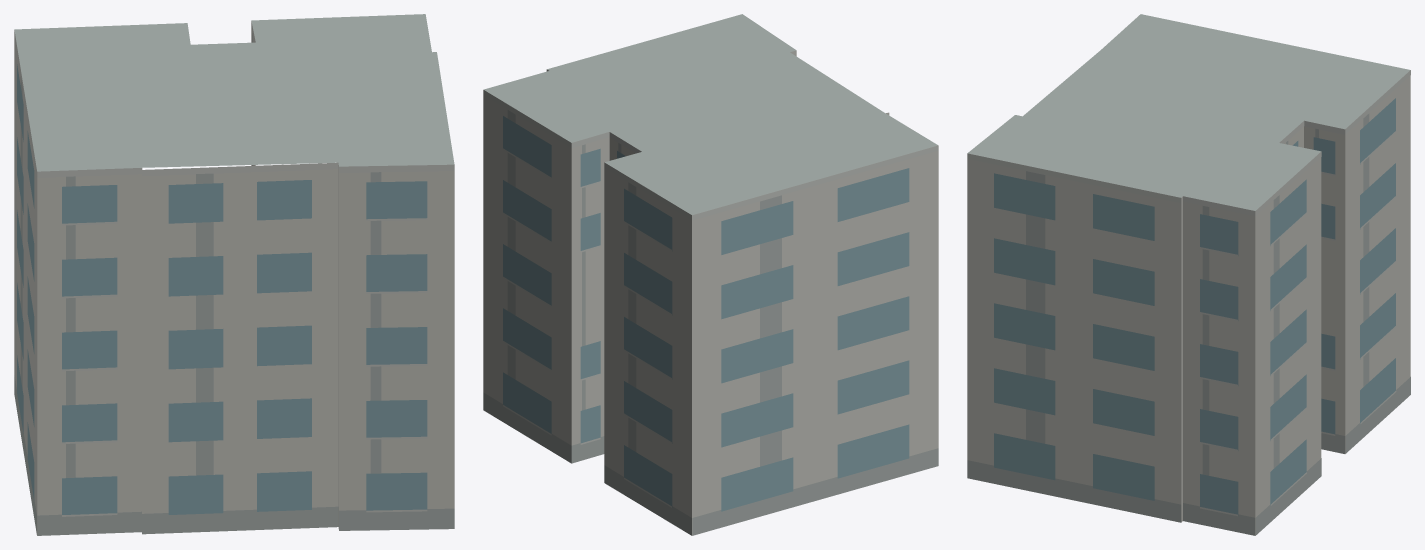
The model's file is survey-upis-32886056.glb.
3 views of the same model, side by side, from view 1: azimuth 30°, elevation 25°; view 2: azimuth 150°, elevation 25°; view 3: azimuth 270°, elevation 25° (orthographic). The views are drawn at different scales.
Visible parts, largest first — view 1: survey-upis-32886056.tmp; view 2: survey-upis-32886056.tmp; view 3: survey-upis-32886056.tmp.
Boxes of the visible parts, x1,y1,x2,y2 form: survey-upis-32886056.tmp: [14, 14, 454, 535]; survey-upis-32886056.tmp: [483, 14, 938, 535]; survey-upis-32886056.tmp: [967, 14, 1410, 535].
Size of the model in its own units: 18.61 by 14.3 by 17.7.
